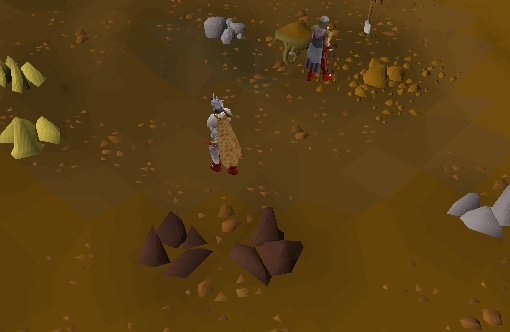gold: (1, 102, 69, 172)
iron: (219, 200, 312, 293), (127, 197, 220, 290)
